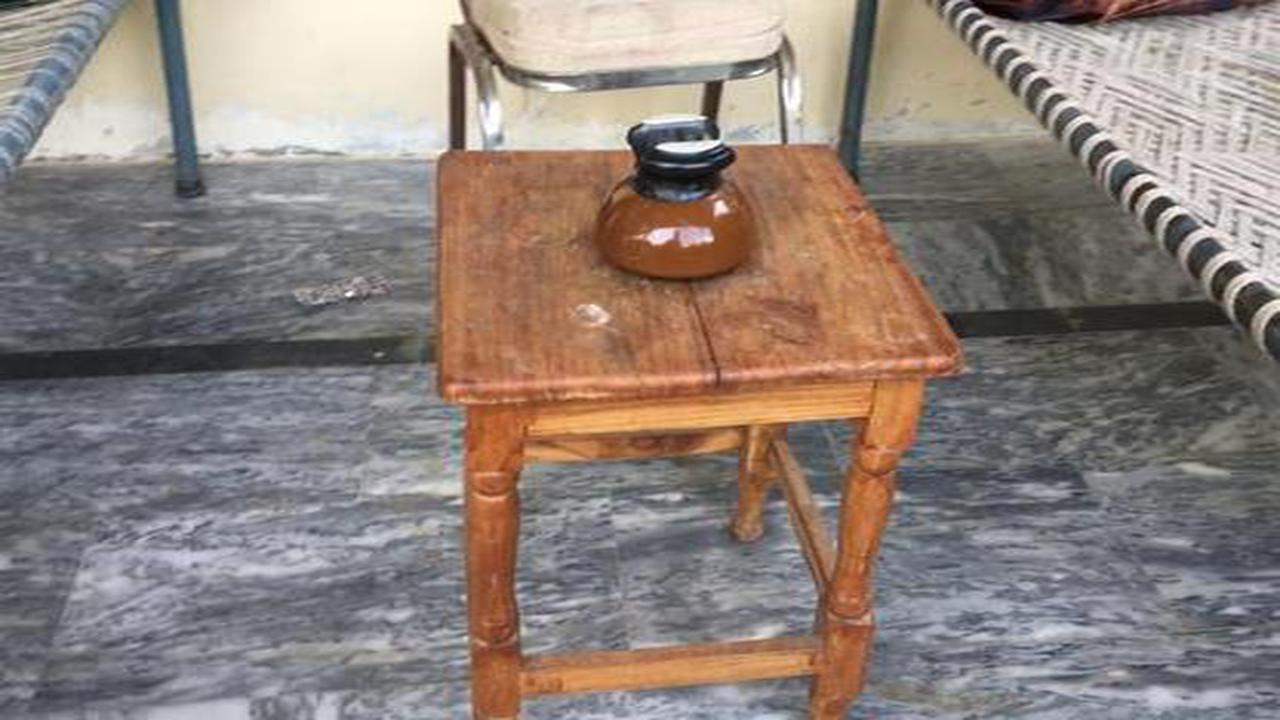insulator_pin: (579, 106, 782, 300)
